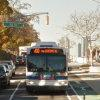Bus: (22, 38, 73, 96)
